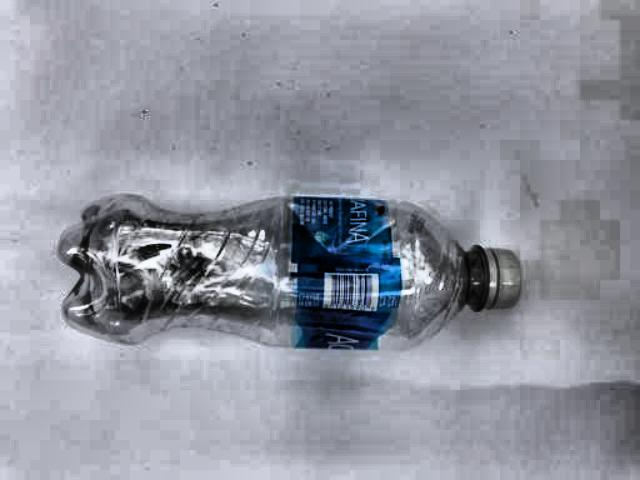Bottles: (36, 187, 543, 359)
